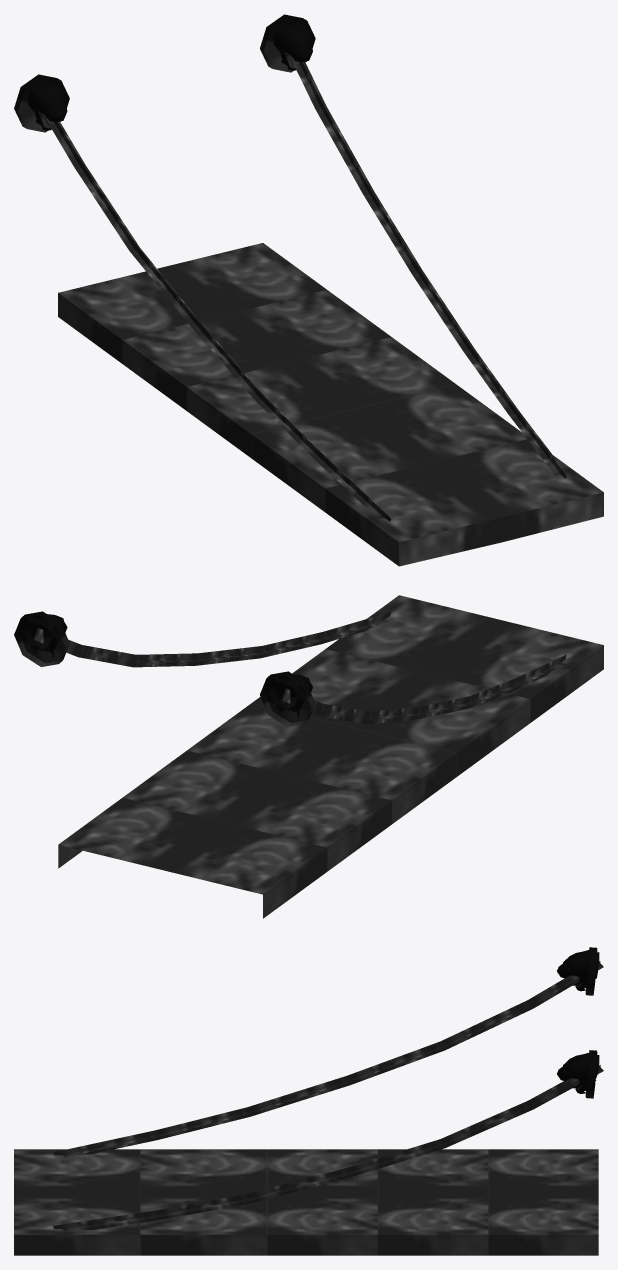
Rendered from chengqiang_03.FBX.
3 renders of one model, top to bottom at view 1: azimuth 30°, elevation 25°; view 2: azimuth 150°, elevation 25°; view 3: azimuth 270°, elevation 25°, orthographic. The views are drawn at different scales.
Parts seen in each view (by area): view 1: Object033; view 2: Object033; view 3: Object033.
Part boxes in pixels (x1,y1,x2,y2): Object033: [14, 14, 603, 566]; Object033: [14, 595, 603, 918]; Object033: [14, 947, 603, 1255].
Size of the model in its own units: 2473 by 4952 by 1984.
